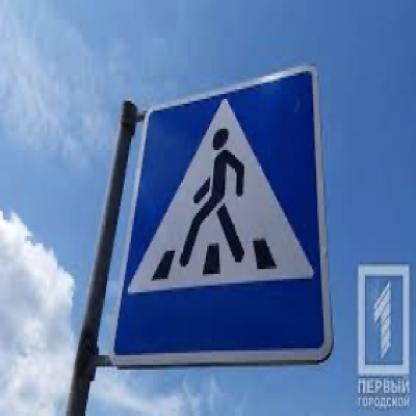crosswalk: (110, 63, 335, 365)
